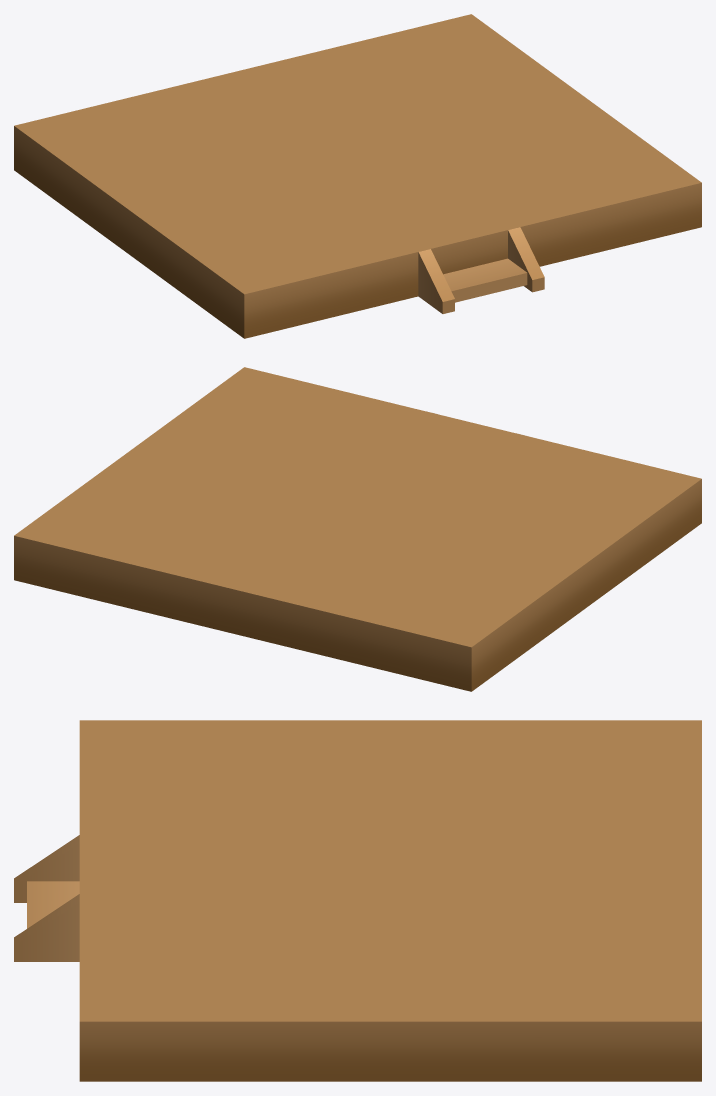
Rendered from House_4x3_Base.fbx.
3 renders of one model, top to bottom at view 1: azimuth 30°, elevation 25°; view 2: azimuth 150°, elevation 25°; view 3: azimuth 270°, elevation 25°, orthographic. The views are drawn at different scales.
Parts seen in each view (by area): view 1: House_4x3_Base; view 2: House_4x3_Base; view 3: House_4x3_Base.
Part boxes in pixels (box(x1,y1,x2,y2)): House_4x3_Base: box(14, 14, 701, 338); House_4x3_Base: box(14, 367, 701, 691); House_4x3_Base: box(14, 720, 701, 1081).
Size of the model in its own units: 4.84 by 0.45 by 4.67.
1 material, 1 textured.
